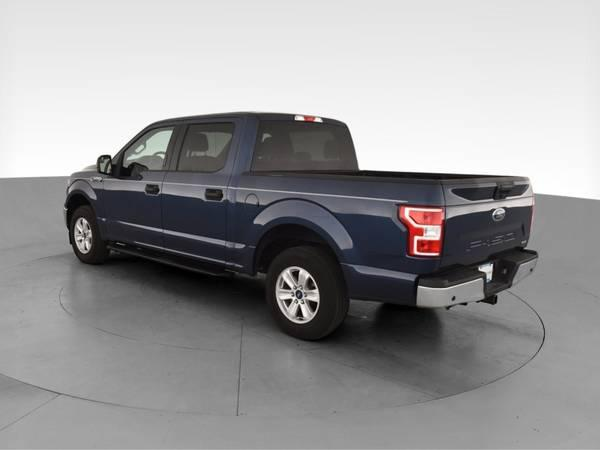Front_Fender: (63, 171, 106, 238)
Front_Left_Door: (104, 172, 167, 257)
Front_Left_Window: (112, 123, 182, 172)
Left_Taillight: (397, 204, 446, 258)
Rear_Bumper: (415, 249, 539, 305)
Rear_Fender: (231, 171, 444, 304)
Rear_Left_Door: (163, 172, 237, 271)
Rear_Left_Window: (169, 120, 240, 172)
Rear_Windshield: (236, 114, 357, 174)
Roof: (109, 111, 252, 172)
Tailgate: (442, 181, 534, 270)
Wheel: (261, 241, 346, 337), (67, 208, 110, 265)
